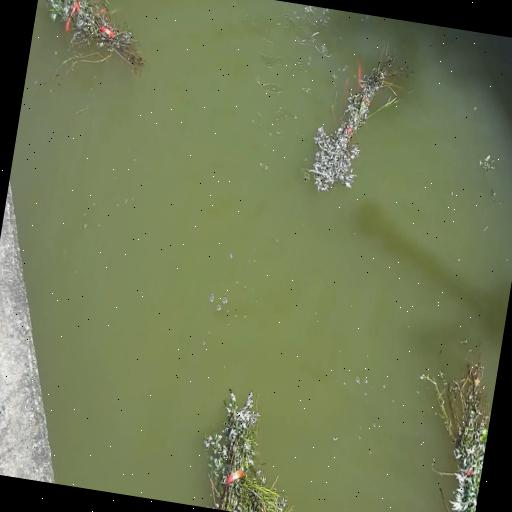twig: (396, 333, 501, 512), (193, 379, 313, 512), (33, 0, 157, 81), (342, 38, 416, 142)
